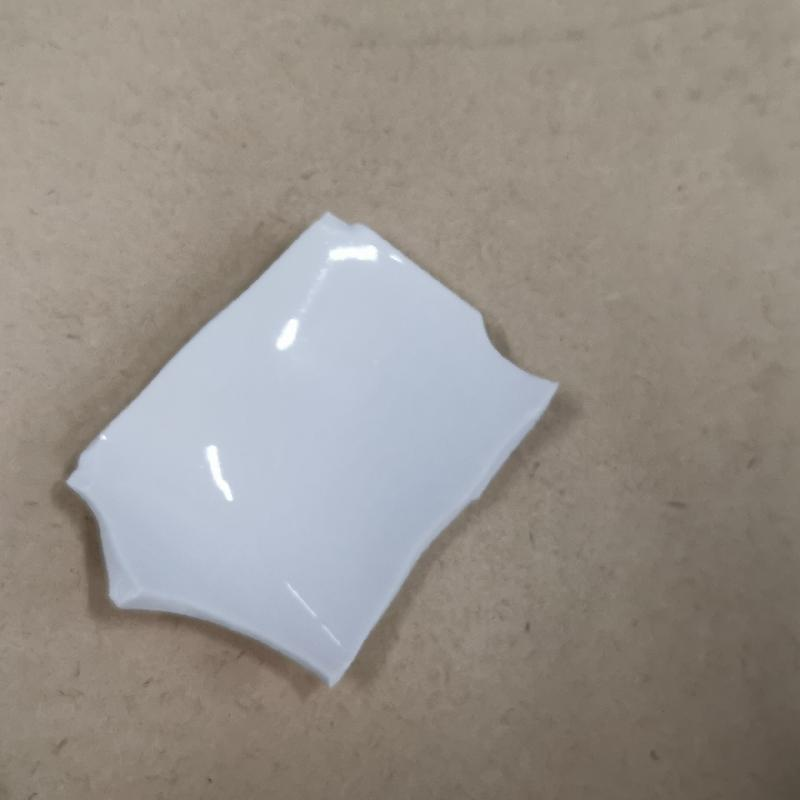ceram: (56, 209, 560, 686)
